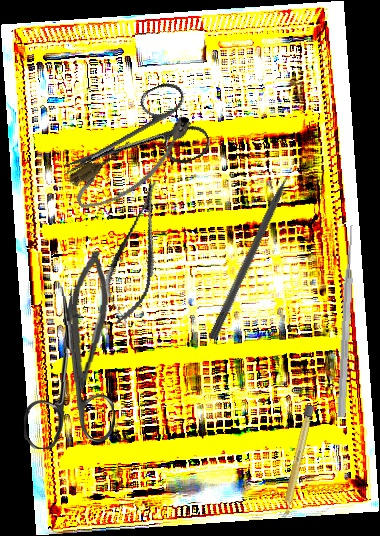Cannula: (63, 107, 206, 219)
Iris Scissors: (46, 75, 215, 211), (19, 285, 116, 450)
Micro Scissor: (94, 173, 179, 331), (65, 248, 112, 400)
Pusher: (207, 155, 303, 342), (335, 224, 358, 418)
Scalpel Handle: (279, 403, 315, 520)
